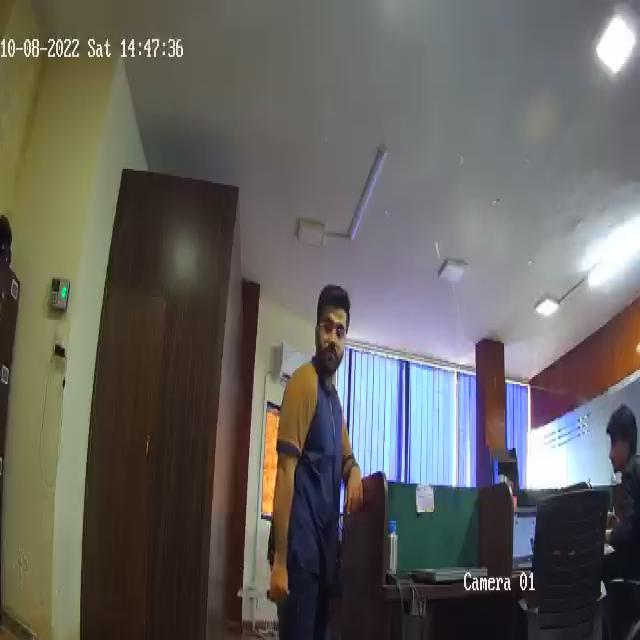weapon: (236, 585, 286, 603)
